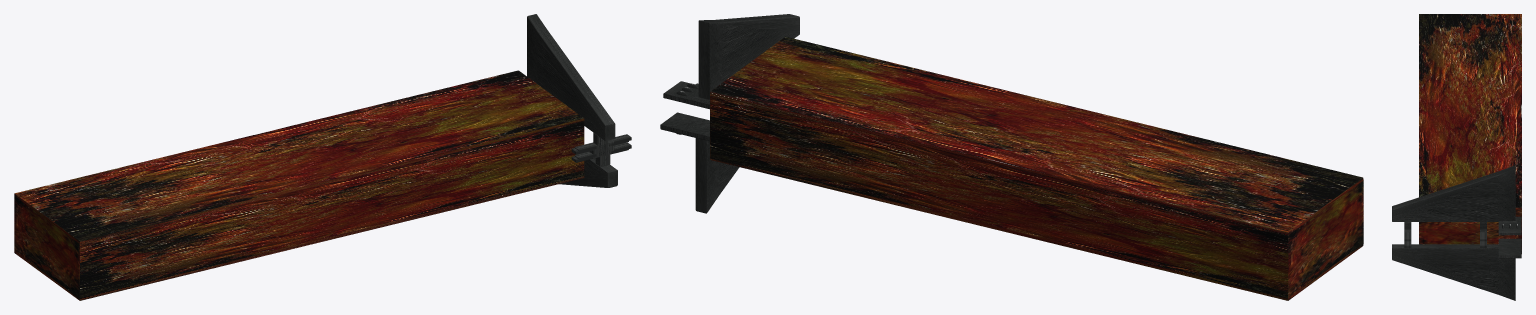
The model's file is Gate.obj.
3 renders of one model, left to right at view 1: azimuth 30°, elevation 25°; view 2: azimuth 150°, elevation 25°; view 3: azimuth 270°, elevation 25°, orthographic. The views are drawn at different scales.
Visible parts, largest first — view 1: Box01.001, Box03.002_Box03.001, Box03.003_Box03.002; view 2: Box01.001, Box03.002_Box03.001, Box03.003_Box03.002; view 3: Box01.001, Box03.003_Box03.002, Box03.002_Box03.001.
Part boxes in pixels (<box>): Box01.001: <box>14,70,584,300</box>; Box03.002_Box03.001: <box>527,14,628,162</box>; Box03.003_Box03.002: <box>559,134,631,187</box>; Box01.001: <box>710,36,1363,300</box>; Box03.002_Box03.001: <box>663,14,799,109</box>; Box03.003_Box03.002: <box>660,83,739,213</box>; Box01.001: <box>1419,14,1521,253</box>; Box03.003_Box03.002: <box>1392,229,1521,300</box>; Box03.002_Box03.001: <box>1392,165,1521,235</box>.
Size of the model in its own units: 38.48 by 11.23 by 10.04.
